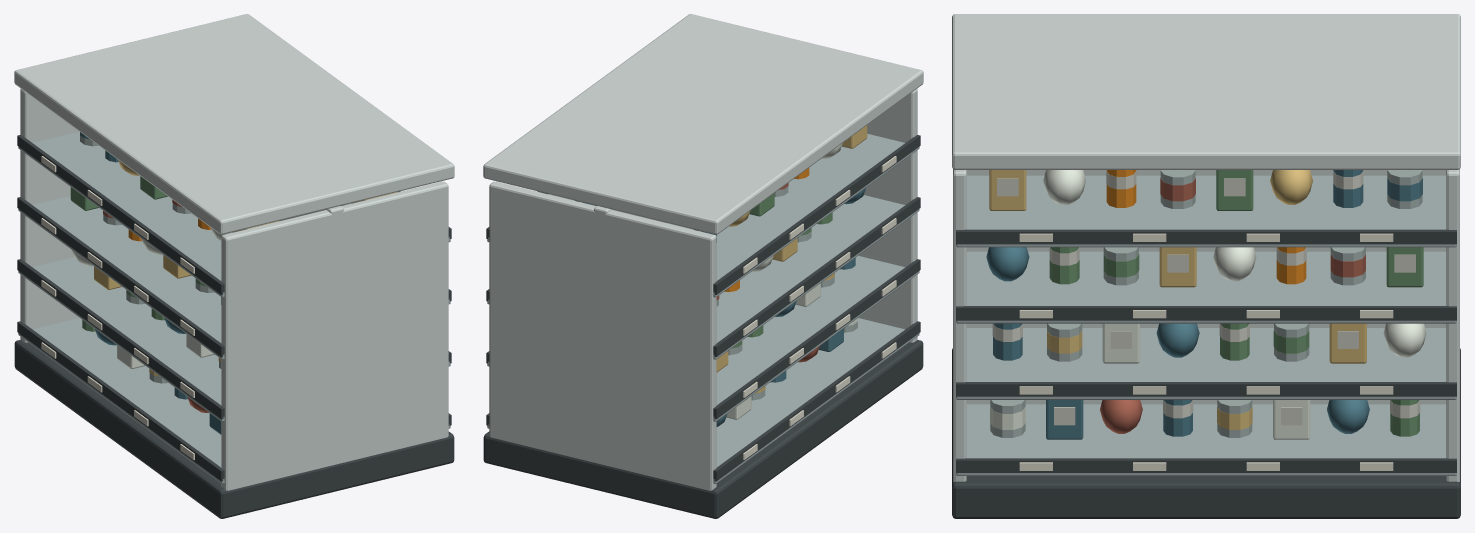
File: grocery.glb
3 renders of one model, left to right at view 1: azimuth 30°, elevation 25°; view 2: azimuth 150°, elevation 25°; view 3: azimuth 270°, elevation 25°, orthographic. The views are drawn at different scales.
Visible parts, largest first — view 1: grocery_fixture_Refrigerator enamel, grocery_fixture_Brushed stainless, grocery_fixture_Powder-coated graphite, grocery_micro_Ivory shelf label, grocery_detail_Dairy cartons, grocery_detail_cheese, grocery_detail_greenpack, grocery_detail_can, grocery_detail_Pack blue; view 2: grocery_fixture_Refrigerator enamel, grocery_fixture_Brushed stainless, grocery_fixture_Powder-coated graphite, grocery_micro_Ivory shelf label, grocery_detail_cheese, grocery_detail_Pack blue, grocery_detail_Dairy cartons, grocery_detail_can, grocery_detail_greenpack; view 3: grocery_fixture_Refrigerator enamel, grocery_fixture_Brushed stainless, grocery_fixture_Powder-coated graphite, grocery_detail_Pack blue, grocery_micro_paper, grocery_detail_can, grocery_detail_Dairy cartons, grocery_micro_Ivory shelf label, grocery_detail_cheese, grocery_detail_greenpack, grocery_detail_Citrus ochre, grocery_micro_greenpack (+5 smaller).
Part boxes in pixels (x1,y1,x2,y2): grocery_fixture_Refrigerator enamel: (14, 14, 454, 490); grocery_fixture_Brushed stainless: (18, 131, 450, 483); grocery_fixture_Powder-coated graphite: (14, 135, 454, 518); grocery_micro_Ivory shelf label: (41, 156, 194, 459); grocery_detail_Dairy cartons: (72, 203, 350, 368); grocery_detail_cheese: (94, 160, 397, 289); grocery_detail_greenpack: (70, 176, 221, 331); grocery_detail_can: (80, 135, 221, 383); grocery_detail_Pack blue: (95, 150, 221, 434); grocery_fixture_Refrigerator enamel: (483, 14, 923, 490); grocery_fixture_Brushed stainless: (487, 133, 919, 483); grocery_fixture_Powder-coated graphite: (483, 135, 923, 518); grocery_micro_Ivory shelf label: (743, 156, 896, 459); grocery_detail_cheese: (716, 125, 867, 372); grocery_detail_Pack blue: (575, 188, 865, 426); grocery_detail_Dairy cartons: (726, 143, 842, 419); grocery_detail_can: (564, 186, 857, 400); grocery_detail_greenpack: (747, 193, 832, 337); grocery_fixture_Refrigerator enamel: (952, 14, 1460, 481); grocery_fixture_Brushed stainless: (956, 175, 1456, 475); grocery_fixture_Powder-coated graphite: (952, 229, 1460, 518); grocery_detail_Pack blue: (986, 170, 1369, 439); grocery_micro_paper: (992, 171, 1420, 425); grocery_detail_can: (990, 170, 1422, 437); grocery_detail_Dairy cartons: (1043, 170, 1426, 439); grocery_micro_Ivory shelf label: (1019, 233, 1393, 470); grocery_detail_cheese: (989, 170, 1366, 363); grocery_detail_greenpack: (1049, 170, 1423, 436); grocery_detail_Citrus ochre: (1106, 170, 1306, 284); grocery_micro_greenpack: (1103, 254, 1309, 353).
Size of the model in its own units: 1.7 by 2.07 by 2.6.
